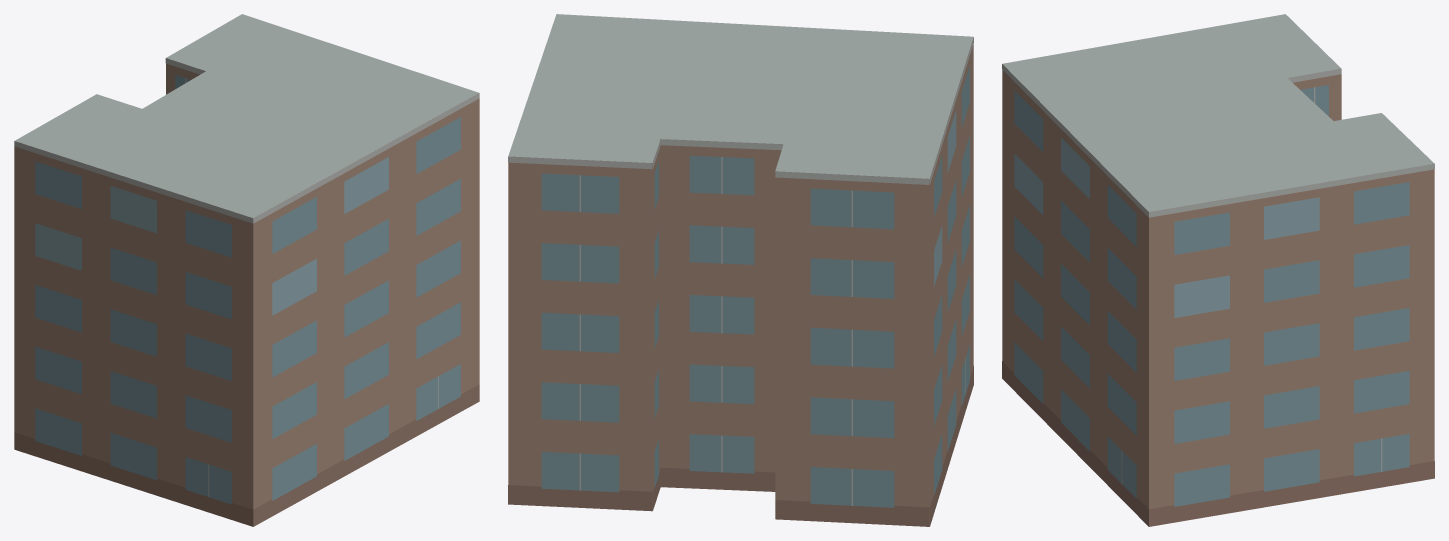
The model's file is survey-upis-32859626.glb.
3 renders of one model, left to right at view 1: azimuth 30°, elevation 25°; view 2: azimuth 150°, elevation 25°; view 3: azimuth 270°, elevation 25°, orthographic. The views are drawn at different scales.
Parts seen in each view (by area): view 1: survey-upis-32859626.tmp; view 2: survey-upis-32859626.tmp; view 3: survey-upis-32859626.tmp.
Boxes of the visible parts, x1,y1,x2,y2 form: survey-upis-32859626.tmp: (14,14,479,526); survey-upis-32859626.tmp: (508,14,973,526); survey-upis-32859626.tmp: (1002,14,1434,526).
Bounding box in the file's own units: 18.71 × 13.85 × 17.26.
